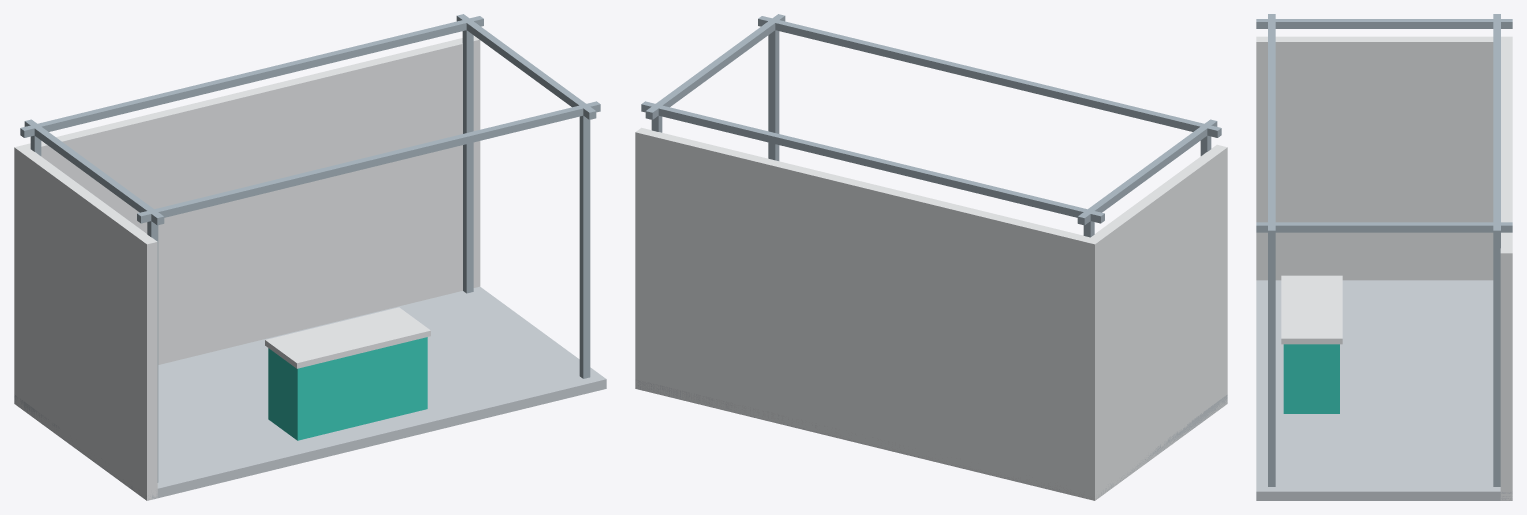
3 views of the same model, side by side, from view 1: azimuth 30°, elevation 25°; view 2: azimuth 150°, elevation 25°; view 3: azimuth 270°, elevation 25° (orthographic). The views are drawn at different scales.
Visible parts, largest first — view 1: Exhibition Booth Concept; view 2: Exhibition Booth Concept; view 3: Exhibition Booth Concept.
Boxes of the visible parts, <box> form: Exhibition Booth Concept: <box>14,14,606,500</box>; Exhibition Booth Concept: <box>635,14,1227,500</box>; Exhibition Booth Concept: <box>1256,14,1512,500</box>.
Size of the model in its own units: 6 by 3.49 by 3.
